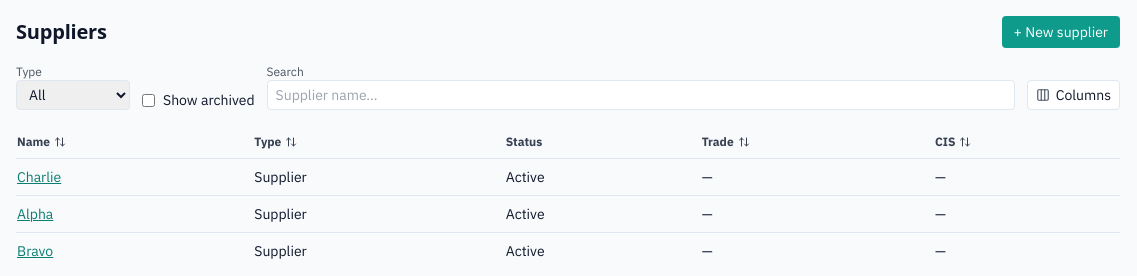
Test case: SupplierList — click-to-sort (Chat 41 §R-eyeball-Step2B Part 2) › Name column: first click asc, second desc, indicator reflects state
Check: the icon with test id "supplier-list-sort-name-none" is shown, box [54,136,66,148]
Note: First click → ascending.
Click the button with test id "supplier-list-sort-name" at (42, 142), box [17,134,66,150]
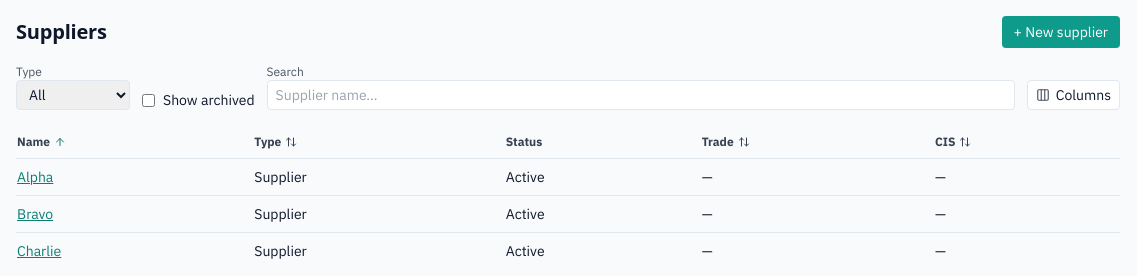
Check: the icon with test id "supplier-list-sort-name-asc" is shown, box [54,136,66,148]
Note: Second click → descending.
Click the button with test id "supplier-list-sort-name" at (42, 142), box [17,134,66,150]
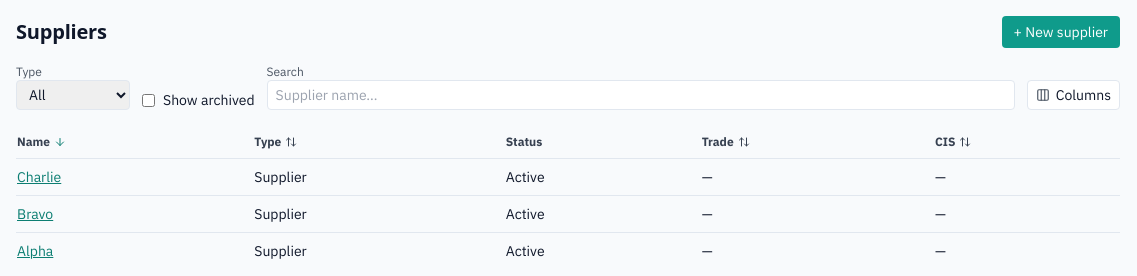
Check: the icon with test id "supplier-list-sort-name-desc" is shown, box [54,136,66,148]
Note: Third click → clear (back to insertion order).
Click the button with test id "supplier-list-sort-name" at (42, 142), box [17,134,66,150]
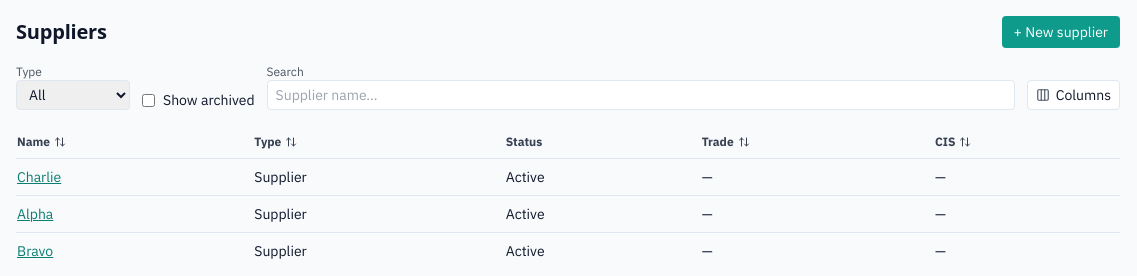
Check: the icon with test id "supplier-list-sort-name-none" is shown, box [54,136,66,148]
